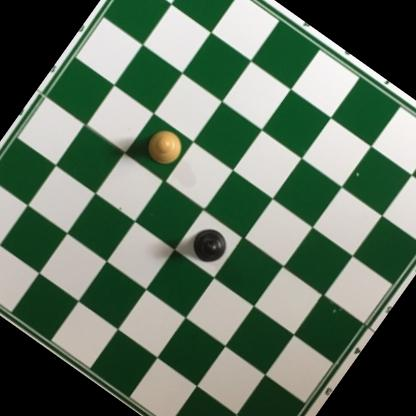black-pawn: (184, 220, 235, 271)
white-pawn: (137, 122, 189, 174)
